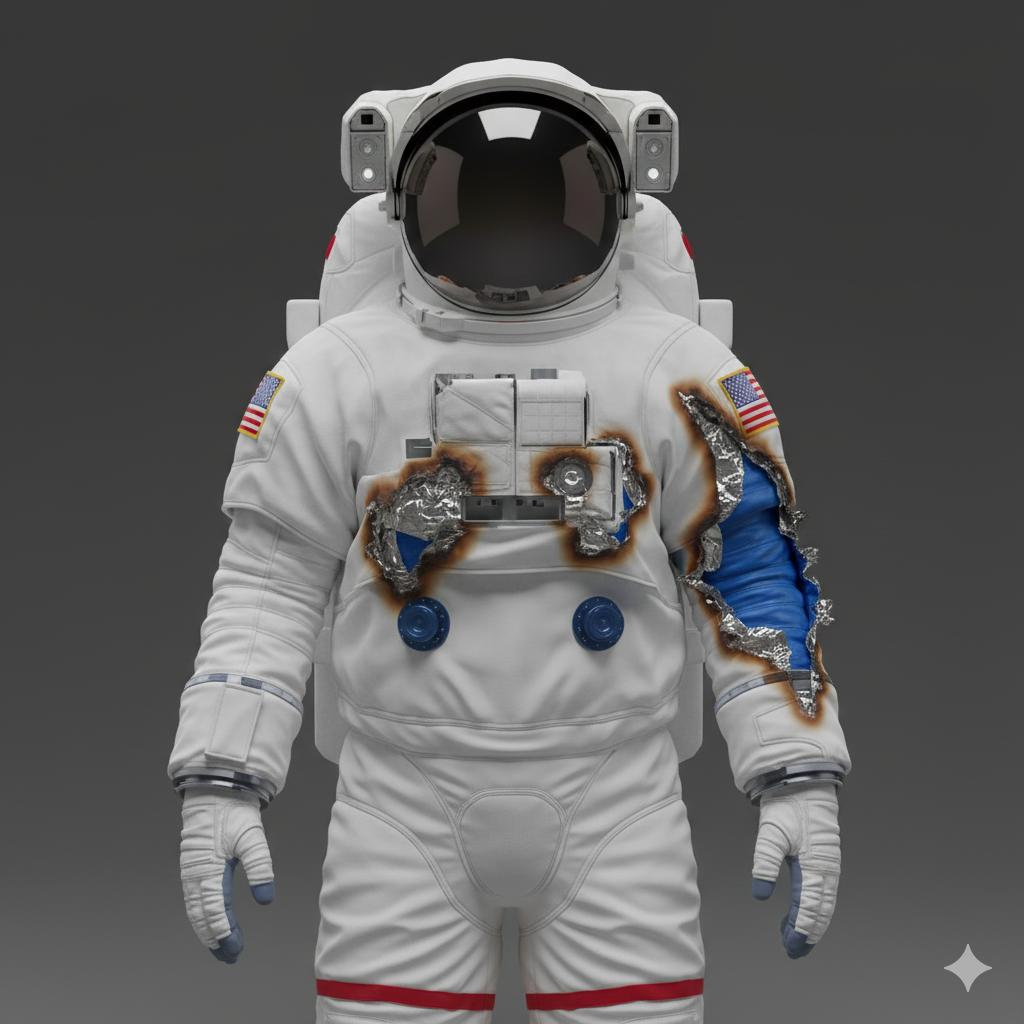burn: (360, 408, 631, 615)
tear: (663, 398, 858, 734)
